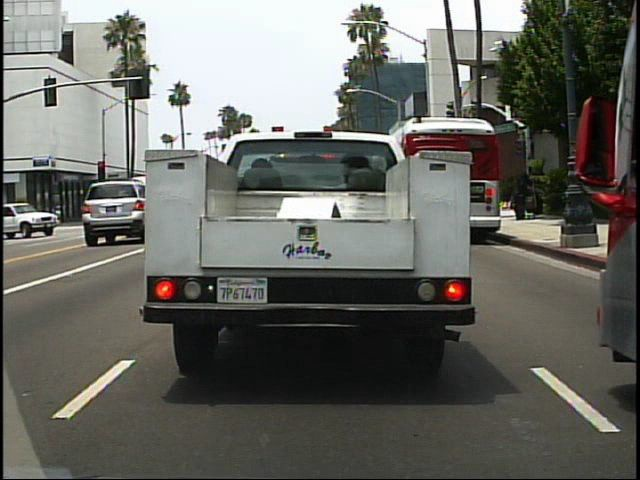person: (511, 170, 534, 222), (18, 199, 37, 234)
